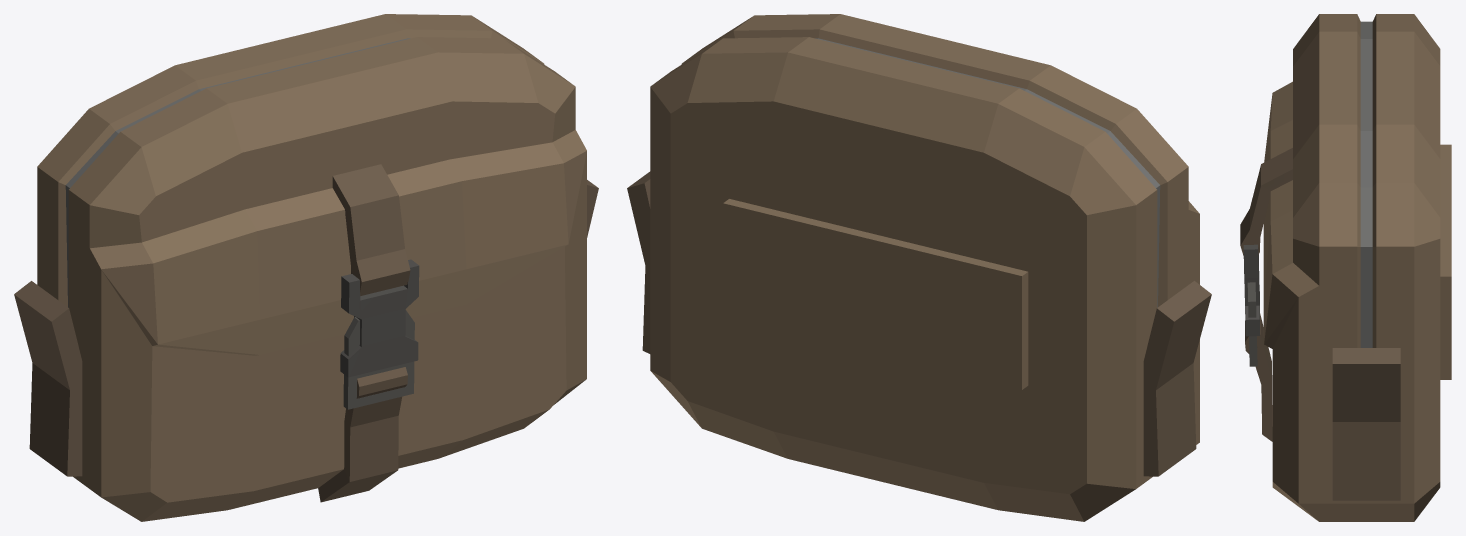
Rendered from Pouch_07_SM.FBX.
3 renders of one model, left to right at view 1: azimuth 30°, elevation 25°; view 2: azimuth 150°, elevation 25°; view 3: azimuth 270°, elevation 25°, orthographic. The views are drawn at different scales.
Parts seen in each view (by area): view 1: Pouch_07_SM; view 2: Pouch_07_SM; view 3: Pouch_07_SM.
Boxes of the visible parts, box(x1,y1,x2,y2) form: Pouch_07_SM: box(14, 14, 598, 521); Pouch_07_SM: box(627, 14, 1211, 521); Pouch_07_SM: box(1240, 14, 1451, 521).
Size of what is drawn, in the model's own units: 23.48 by 8.67 by 17.18.
